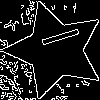I: (30, 25, 81, 52)
